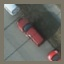car: (15, 15, 47, 47)
